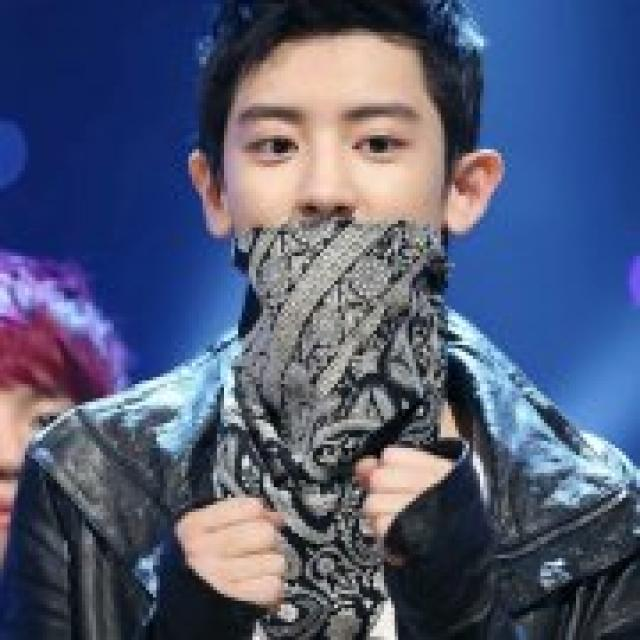mask: (220, 28, 441, 320)
